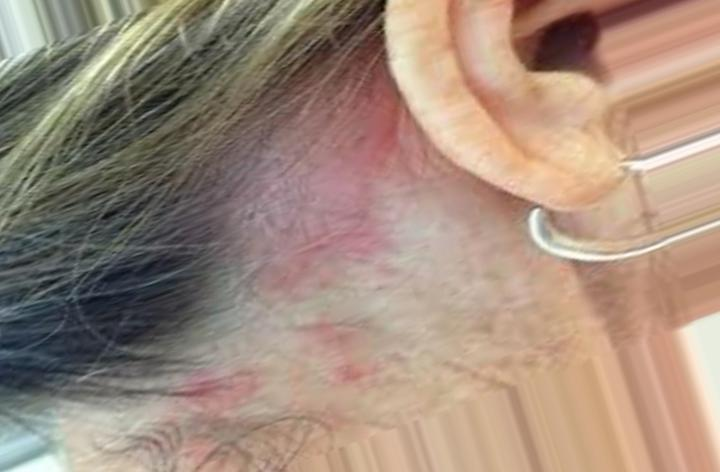Contact Dermatitis: (158, 70, 414, 378)
